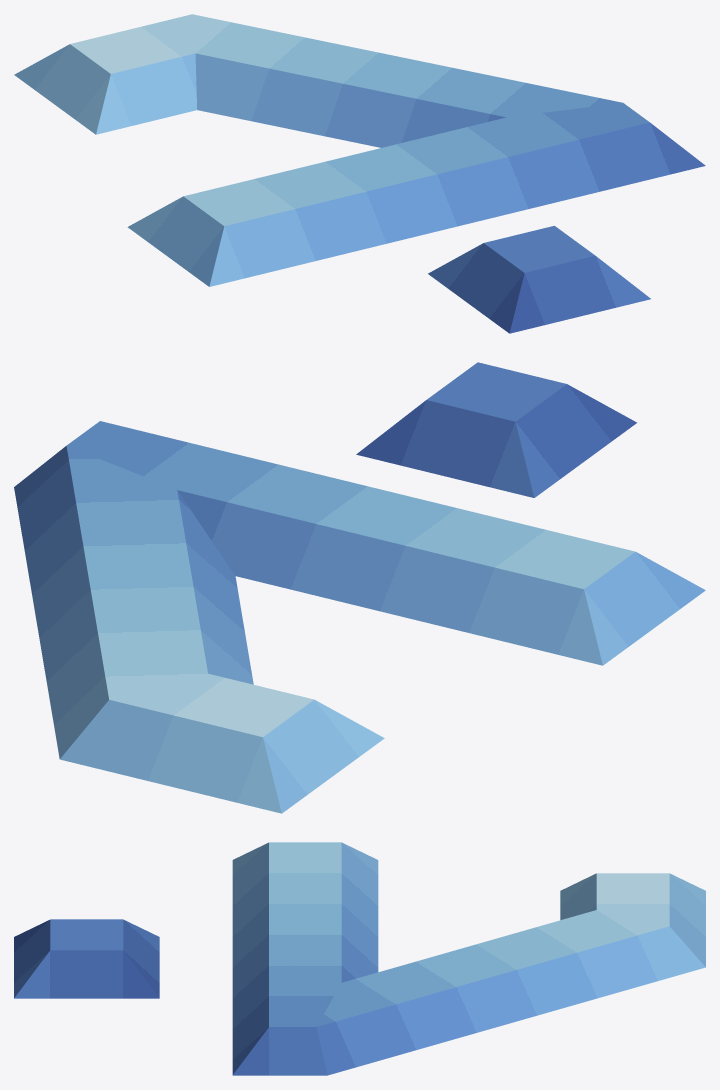
The model's file is rune_style_p.obj.
3 views of the same model, one above another, from view 1: azimuth 30°, elevation 25°; view 2: azimuth 150°, elevation 25°; view 3: azimuth 270°, elevation 25° (orthographic). The views are drawn at different scales.
Parts seen in each view (by area): view 1: RUNE_STYLE_P_Plane.027; view 2: RUNE_STYLE_P_Plane.027; view 3: RUNE_STYLE_P_Plane.027.
Boxes of the visible parts, x1,y1,x2,y2 form: RUNE_STYLE_P_Plane.027: (14,14,705,333); RUNE_STYLE_P_Plane.027: (14,362,705,813); RUNE_STYLE_P_Plane.027: (14,842,705,1075).
Size of the model in its own units: 0.4375 by 0.0312 by 0.5938.
